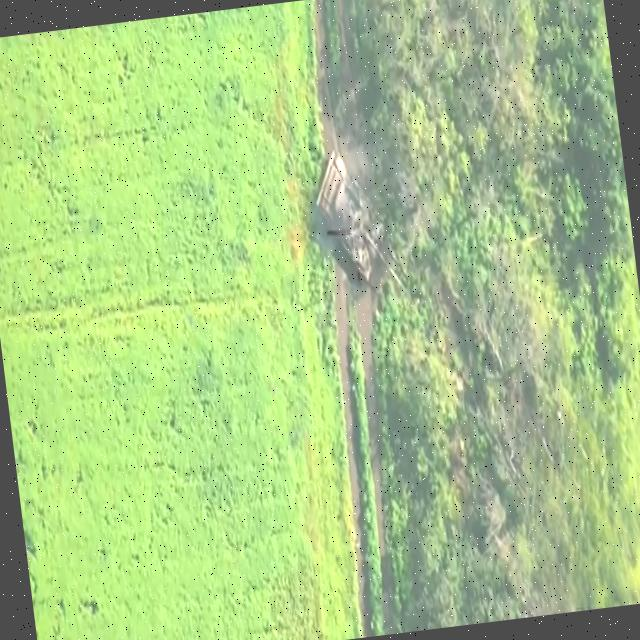MBT: (308, 134, 413, 304)
